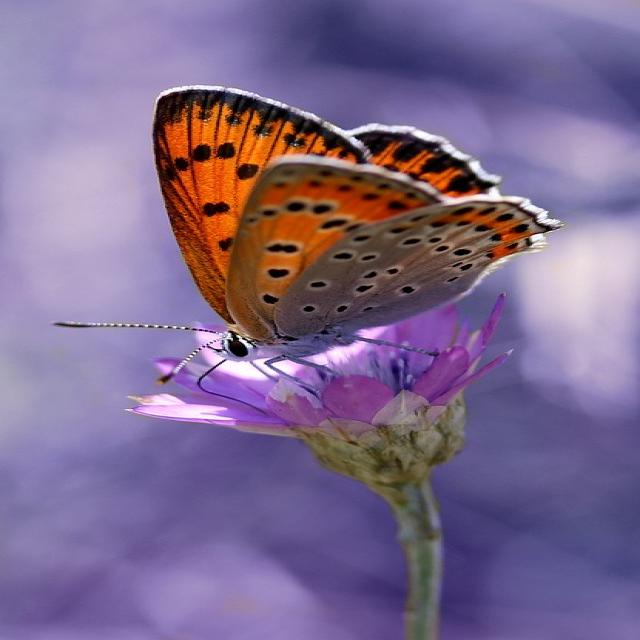butterfly: (58, 86, 561, 359), (168, 350, 198, 377)
